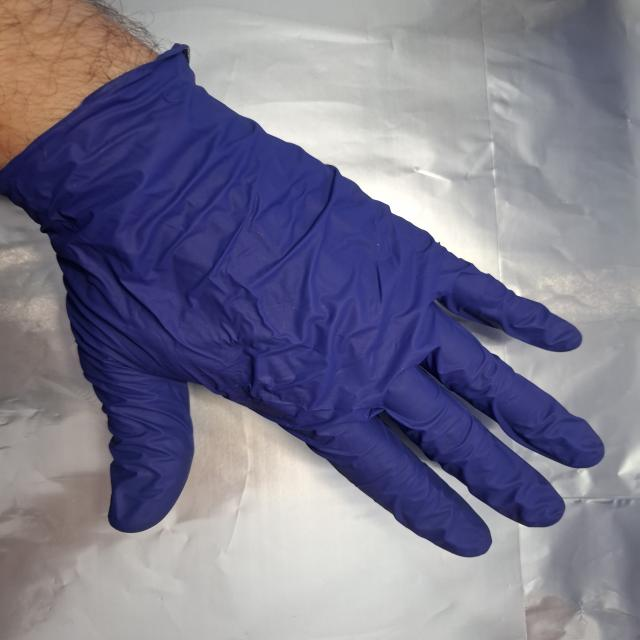glove_on: (14, 53, 610, 560)
